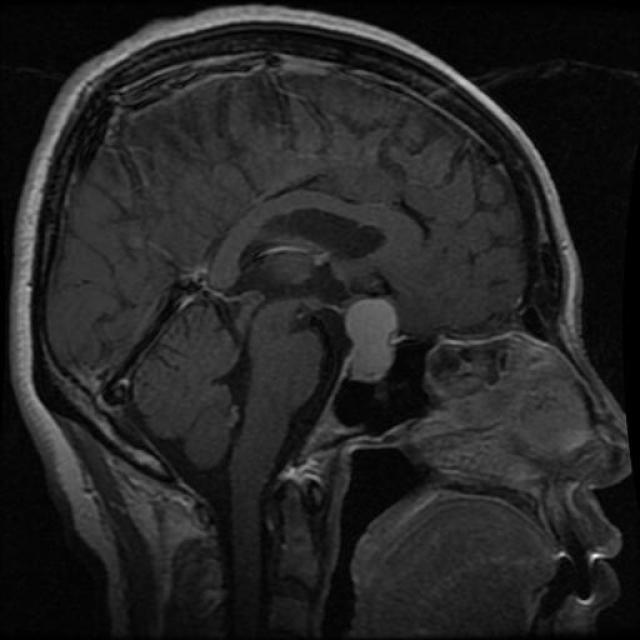pituitary: (321, 292, 407, 410)
